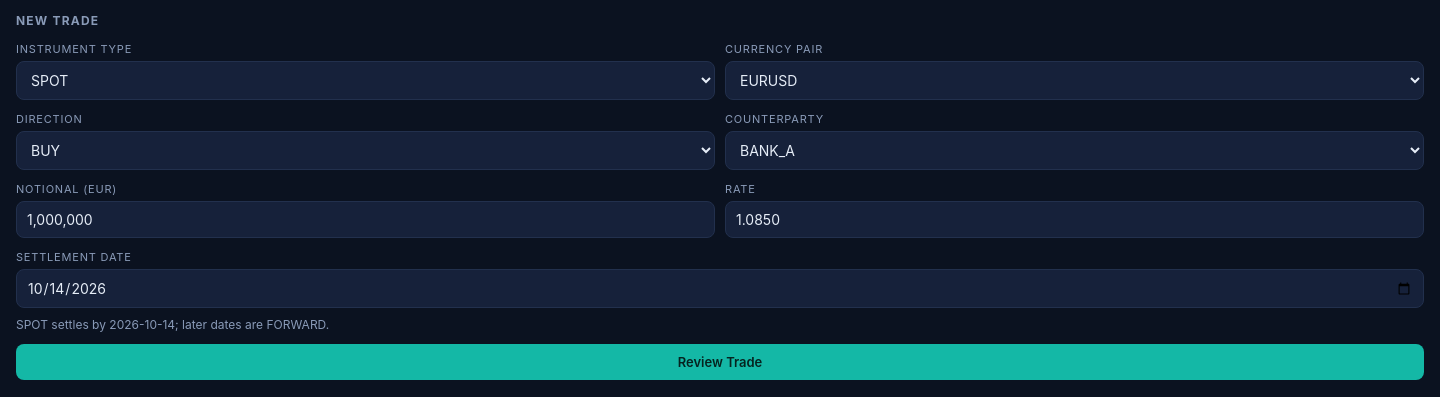
NewTradeForm › updates the rate to the new pair's market rate on pair change
Step 1. Select "GBPUSD" in the dropdown labelled "Currency Pair" → coordinates (1074, 80), box [725,61,1424,100]
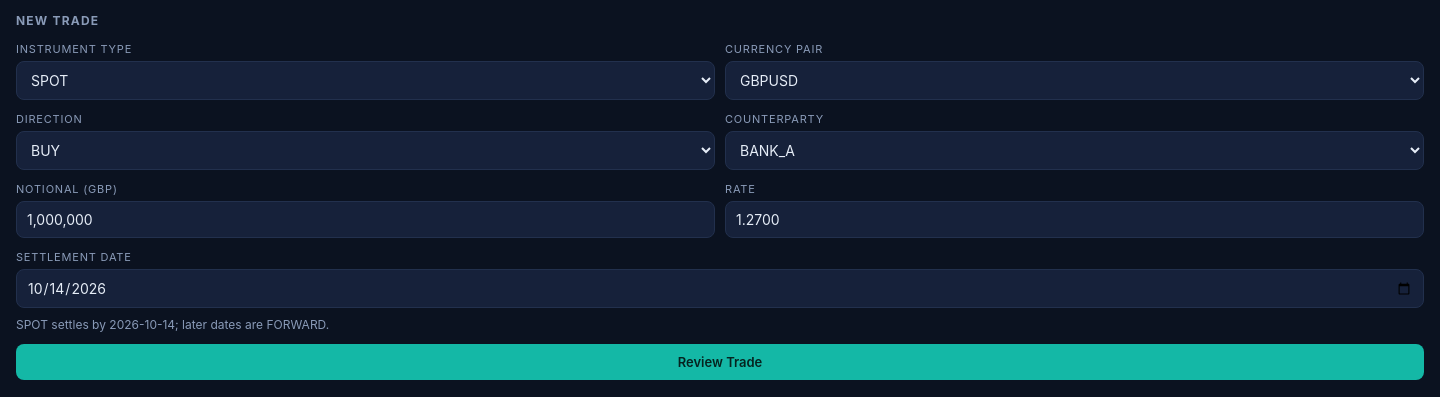
Result: the field labelled "Rate" holds "1.2700" at [725,201,1424,238]
